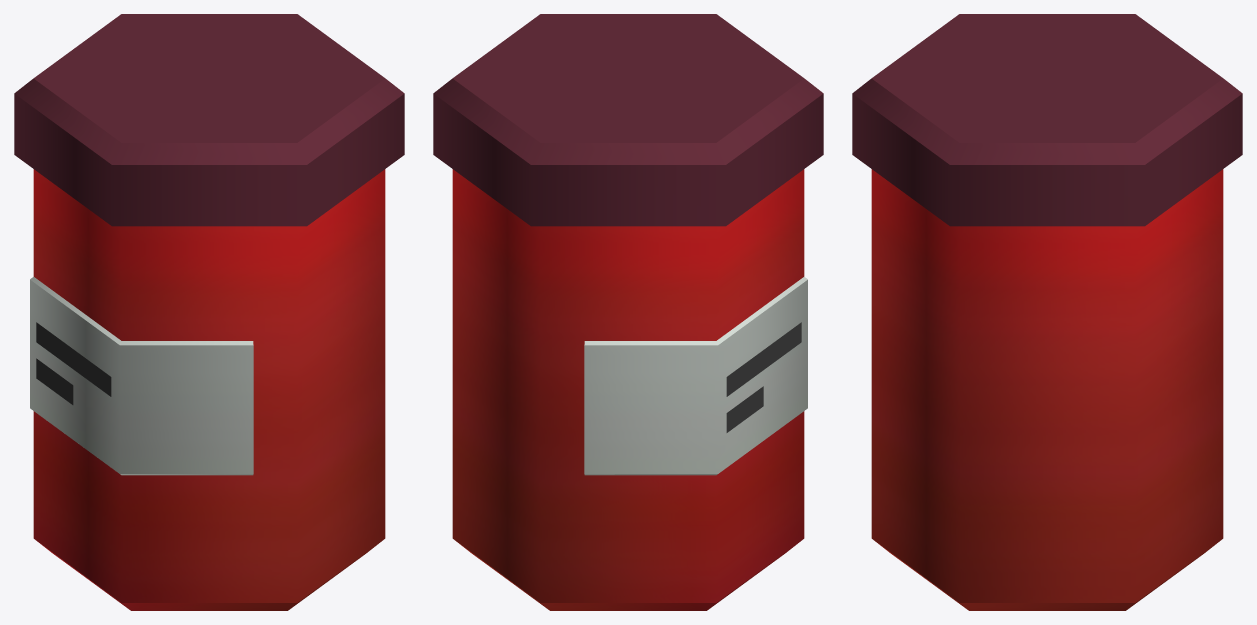
File: Jar_3_B.fbx
3 views of the same model, side by side, from view 1: azimuth 30°, elevation 25°; view 2: azimuth 150°, elevation 25°; view 3: azimuth 270°, elevation 25° (orthographic).
Parts seen in each view (by area): view 1: Jar_3_B; view 2: Jar_3_B; view 3: Jar_3_B.
Part boxes in pixels (bbox=[...]): Jar_3_B: bbox=[14, 14, 404, 610]; Jar_3_B: bbox=[433, 14, 823, 610]; Jar_3_B: bbox=[852, 14, 1242, 610].
Bounding box in the file's own units: 17.99 × 27.9 × 20.77.
